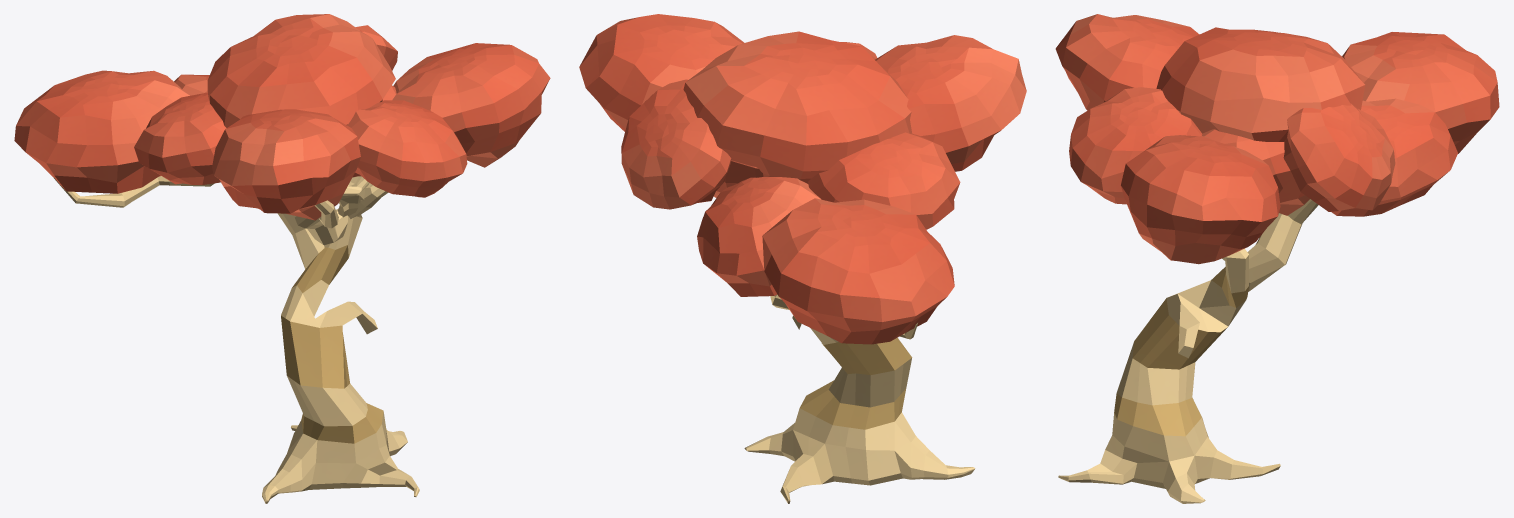
Rendered from tree_3_c.glb.
3 views of the same model, side by side, from view 1: azimuth 30°, elevation 25°; view 2: azimuth 150°, elevation 25°; view 3: azimuth 270°, elevation 25° (orthographic). The views are drawn at different scales.
Visible parts, largest first — view 1: crown_3_c, trunk_3_c; view 2: crown_3_c, trunk_3_c; view 3: crown_3_c, trunk_3_c.
Boxes of the visible parts, x1,y1,x2,y2 form: crown_3_c: (14, 14, 550, 220); trunk_3_c: (53, 176, 419, 503); crown_3_c: (579, 14, 1026, 344); trunk_3_c: (744, 294, 975, 503); crown_3_c: (1055, 14, 1499, 264); trunk_3_c: (1058, 199, 1318, 503).
Bounding box in the file's own units: 4.75 × 4.32 × 4.05.
Materials: 1 (1 with a texture image).
